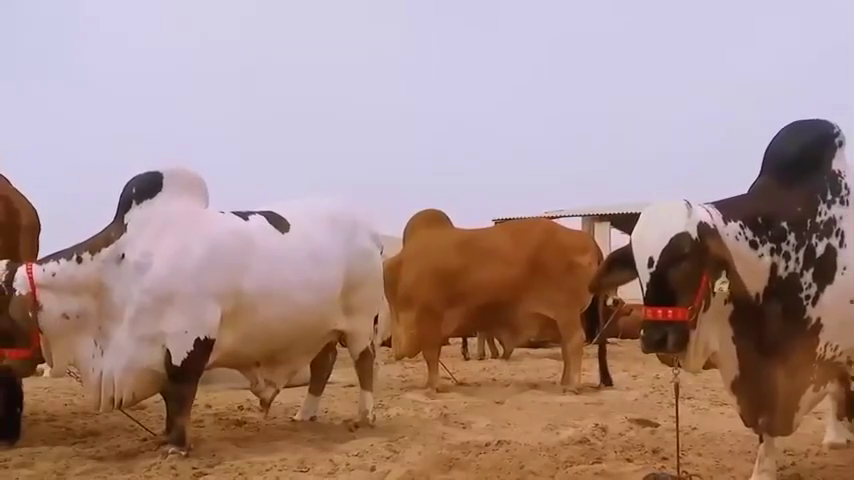bo: (2, 159, 392, 466), (591, 94, 850, 476), (368, 196, 617, 409)
